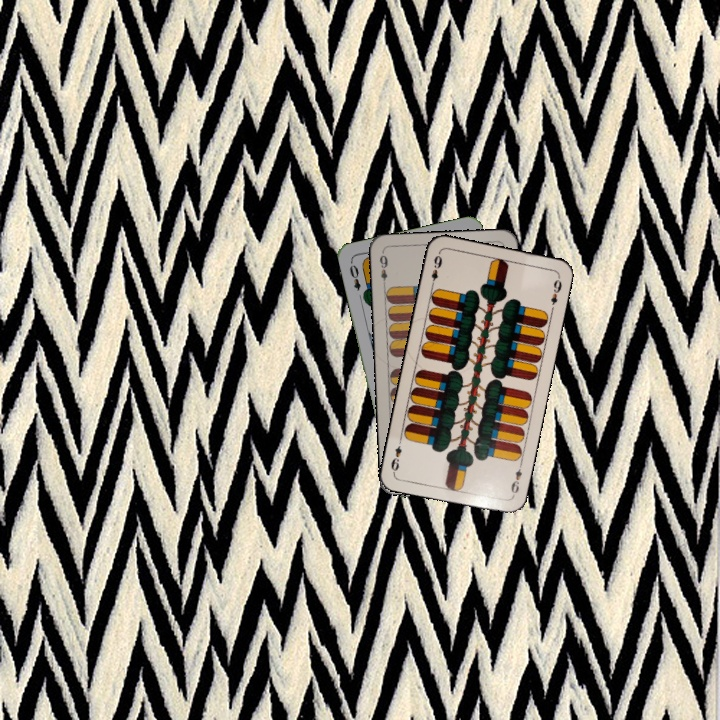E9: (427, 249, 445, 290), (507, 459, 525, 499), (376, 251, 390, 290)
EO: (345, 258, 363, 293)
